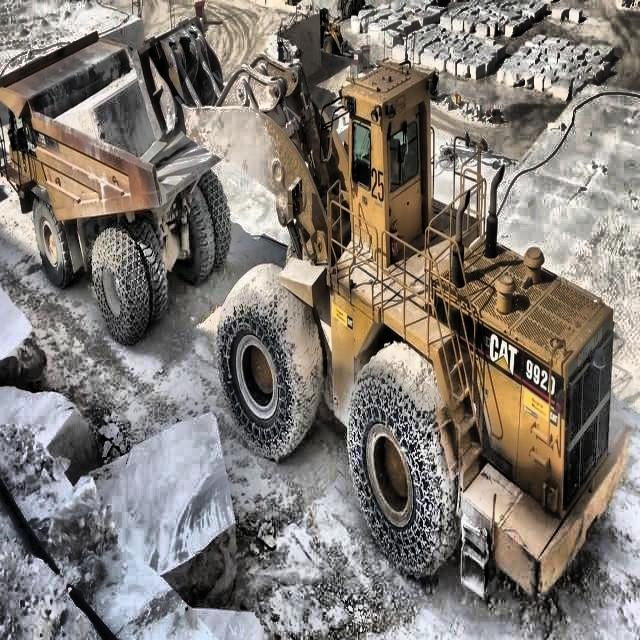bull_dozer/loader/grader: (132, 14, 628, 591)
dump_truck: (0, 32, 230, 341)
